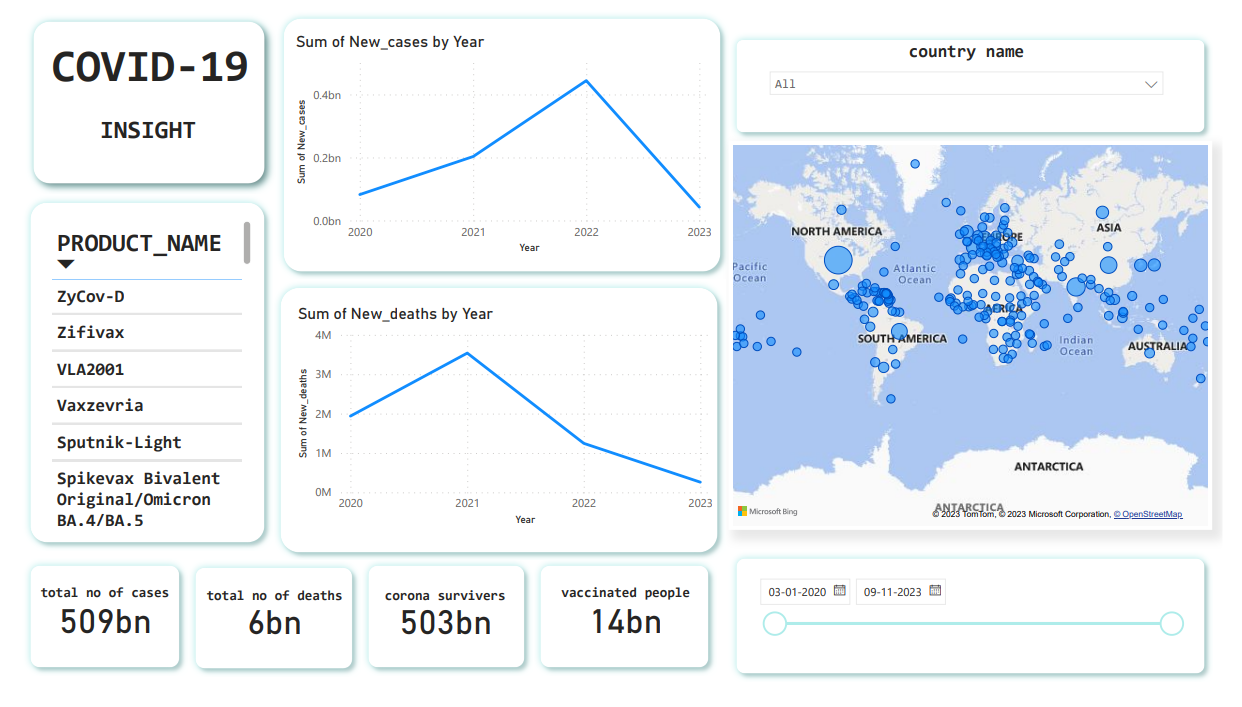

Layout of this report page (visuals, bound fields, positions):
{"tool":"powerbi","page":{"name":"Page 1","canvas":[1280,720],"ordinal":0},"visuals":[{"type":"shape","box":[270,0,482.9,287.1],"z":0},{"type":"shape","box":[0,0,270,195.7],"z":1000},{"type":"shape","box":[752.9,575.7,515.7,140],"z":2000},{"type":"shape","box":[752.9,22.9,515.7,115.7],"z":3000},{"type":"shape","box":[0,584.3,175.7,124.3],"z":4000},{"type":"textbox","box":[25.7,25.7,244.3,72.9],"z":5000},{"type":"textbox","box":[54.3,105.7,160,44.3],"z":6000},{"type":"card","title":"total no of cases","fields":{"Values":["measures (2).total cases"]},"box":[12.9,612.9,150,72.9],"z":7000},{"type":"shape","box":[175.7,585.7,184.3,124.3],"z":8000},{"type":"card","title":"total no of deaths","fields":{"Values":["measures (2).total deaths"]},"box":[191.4,615.7,155.7,70],"z":9000},{"type":"shape","box":[360,584.3,184.3,124.3],"z":10000},{"type":"card","title":"corona survivers","fields":{"Values":["measures (2).people survived"]},"box":[371.4,615.7,160,70],"z":11000},{"type":"shape","box":[544.3,584.3,195.7,124.3],"z":12000},{"type":"card","title":"vaccinated people","fields":{"Values":["measures (2).total vacinated people"]},"box":[565.7,612.9,155.7,72.9],"z":13000},{"type":"slicer","title":"country name","fields":{"Values":["all.name"]},"box":[787.1,32.9,440,95.7],"z":14000},{"type":"slicer","fields":{"Values":["WHO-COVID-19-global-data.Date_reported"]},"box":[774.3,595.7,472.9,100],"z":15000},{"type":"map","fields":{"Size":["measures (2).total cases"],"Category":["WHO-COVID-19-global-data.Country"]},"box":[752.9,138.6,515.7,415.7],"z":16000},{"type":"lineChart","fields":{"Category":["WHO-COVID-19-global-data.Date_reported.Variation.Date Hierarchy.Year","WHO-COVID-19-global-data.Date_reported.Variation.Date Hierarchy.Quarter","WHO-COVID-19-global-data.Date_reported.Variation.Date Hierarchy.Month","WHO-COVID-19-global-data.Date_reported.Variation.Date Hierarchy.Day"],"Y":["Sum(WHO-COVID-19-global-data.New_cases)"]},"box":[287.1,22.9,452.9,241.4],"z":17000},{"type":"shape","box":[0,195.7,267.1,380],"z":18000},{"type":"tableEx","fields":{"Values":["vaccination-metadata.PRODUCT_NAME"]},"box":[25.7,218.6,222.9,335.7],"z":19000},{"type":"shape","box":[267.1,287.1,482.9,298.6],"z":20000},{"type":"lineChart","fields":{"Category":["WHO-COVID-19-global-data.Date_reported.Variation.Date Hierarchy.Year","WHO-COVID-19-global-data.Date_reported.Variation.Date Hierarchy.Quarter","WHO-COVID-19-global-data.Date_reported.Variation.Date Hierarchy.Month","WHO-COVID-19-global-data.Date_reported.Variation.Date Hierarchy.Day"],"Y":["Sum(WHO-COVID-19-global-data.New_deaths)"]},"box":[288.6,312.9,452.9,241.4],"z":21000}]}

Visuals, with their boxes in screenshot pixels (x1, y1, x2, y2), scaled from the page's 1280x720 canvas onto the 1242x707 screenshot:
shape: 262, 0, 731, 282
shape: 0, 0, 262, 192
shape: 731, 565, 1231, 703
shape: 731, 22, 1231, 136
shape: 0, 574, 170, 696
textbox: 25, 25, 262, 97
textbox: 53, 104, 208, 147
"total no of cases" card: 13, 602, 158, 673
shape: 170, 575, 349, 697
"total no of deaths" card: 186, 605, 337, 673
shape: 349, 574, 528, 696
"corona survivers" card: 360, 605, 516, 673
shape: 528, 574, 718, 696
"vaccinated people" card: 549, 602, 700, 673
"country name" slicer: 764, 32, 1191, 126
slicer - WHO-COVID-19-global-data.Date_reported: 751, 585, 1210, 683
map - measures (2).total cases x WHO-COVID-19-global-data.Country: 731, 136, 1231, 544
lineChart - WHO-COVID-19-global-data.Date_reported.Variation.Date Hierarchy.Year x WHO-COVID-19-global-data.Date_reported.Variation.Date Hierarchy.Quarter: 279, 22, 718, 260
shape: 0, 192, 259, 565
tableEx - vaccination-metadata.PRODUCT_NAME: 25, 215, 241, 544
shape: 259, 282, 728, 575
lineChart - WHO-COVID-19-global-data.Date_reported.Variation.Date Hierarchy.Year x WHO-COVID-19-global-data.Date_reported.Variation.Date Hierarchy.Quarter: 280, 307, 719, 544
